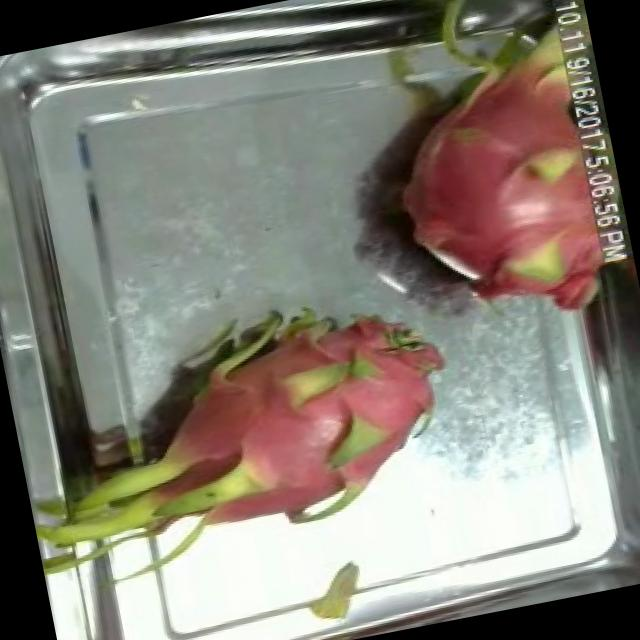Fruit: (433, 155, 632, 347)
